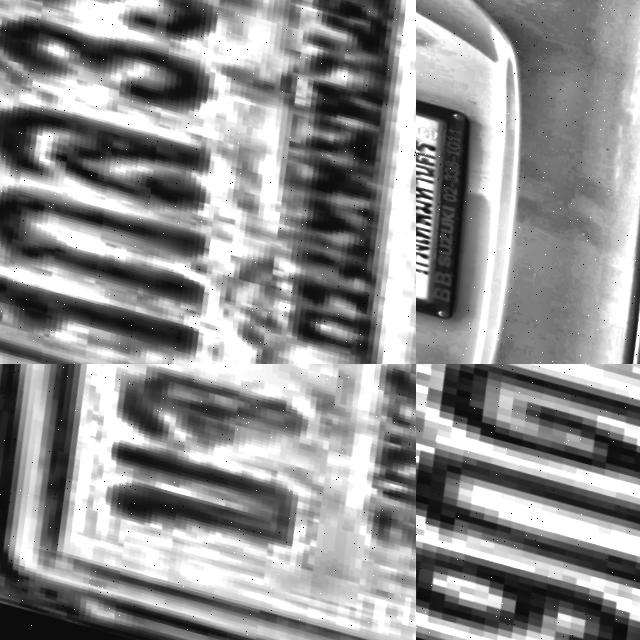license-plate: (0, 0, 416, 364), (0, 364, 416, 640), (416, 364, 640, 640), (416, 78, 484, 321)
